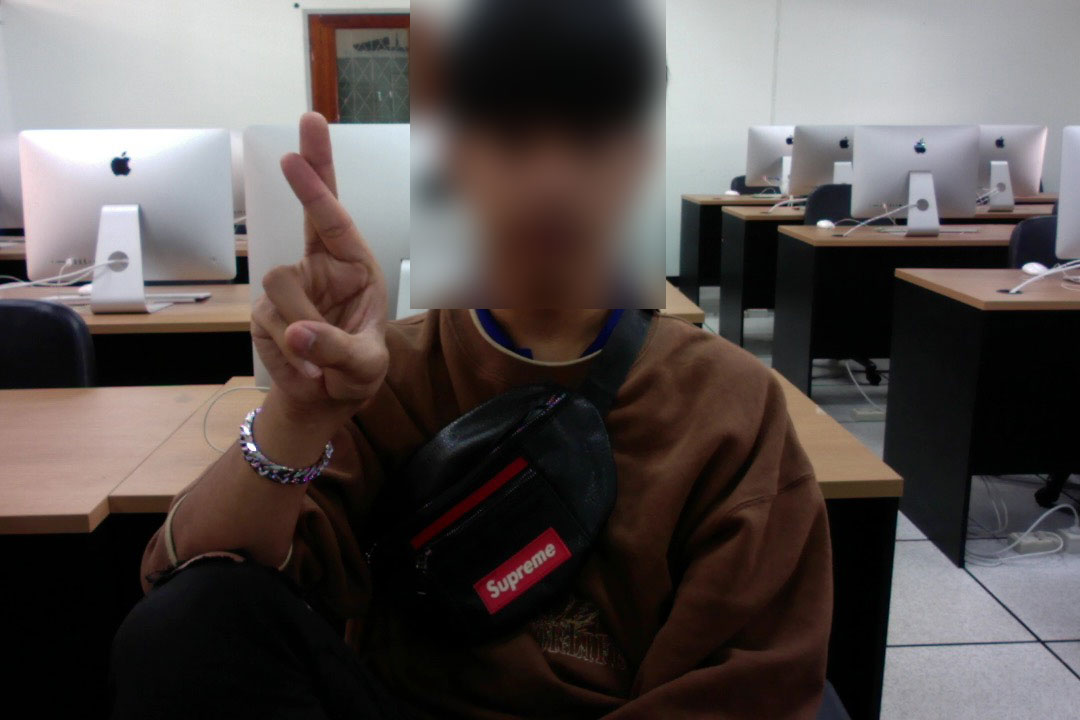rao: (239, 99, 401, 422)
